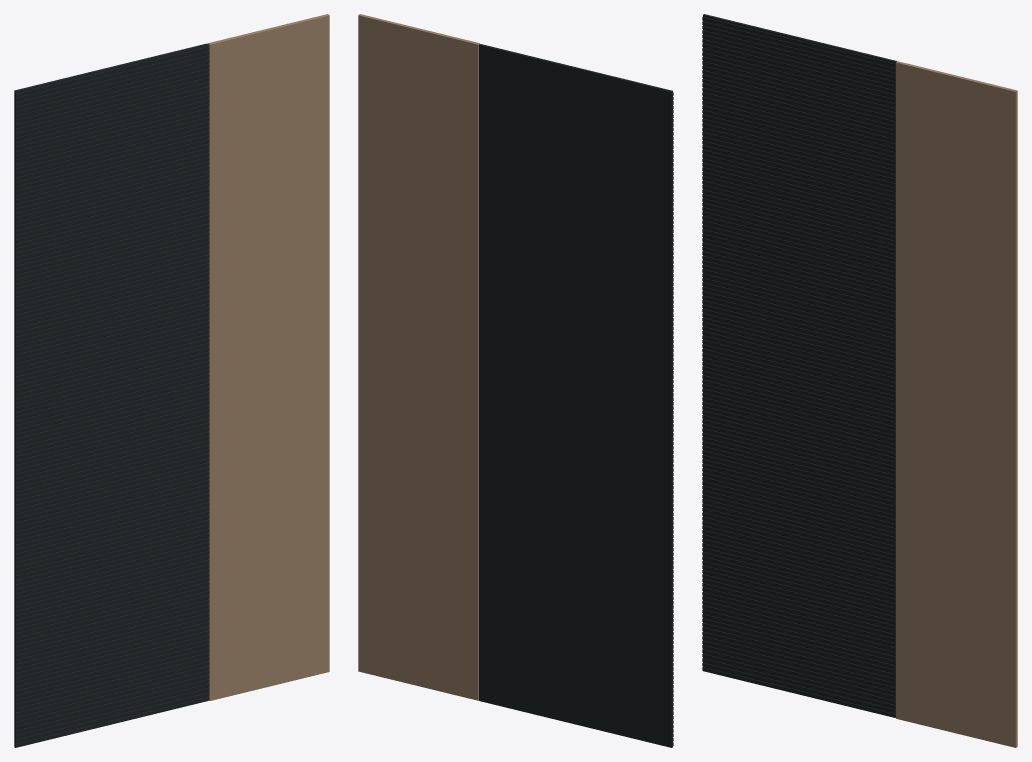
File: c112_ext.glb
3 renders of one model, left to right at view 1: azimuth 30°, elevation 25°; view 2: azimuth 150°, elevation 25°; view 3: azimuth 330°, elevation 25°, orthographic.
Parts seen in each view (by area): view 1: panelQuartz, panelWood; view 2: panelQuartz, panelWood; view 3: panelQuartz, panelWood.
Part boxes in pixels (x1,y1,x2,y2): panelQuartz: (14, 43, 208, 747); panelWood: (208, 14, 329, 700); panelQuartz: (479, 44, 673, 747); panelWood: (358, 14, 479, 700); panelQuartz: (702, 14, 896, 717); panelWood: (896, 61, 1017, 747).
Bounding box in the file's own units: 1 × 2 × 0.01.
